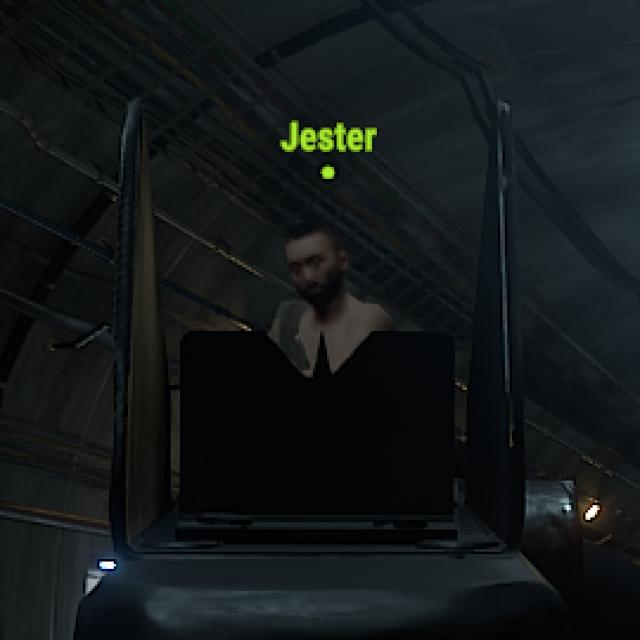Player: (268, 225, 396, 331)
